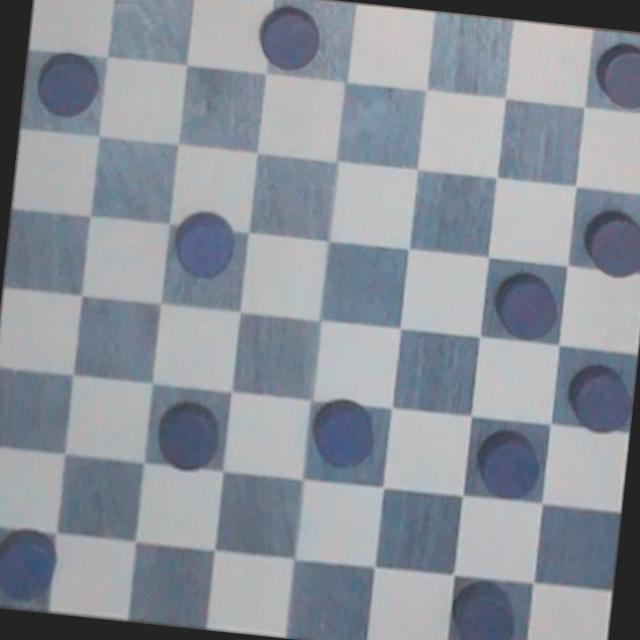BOARD: (0, 0, 640, 640)
black: (167, 199, 244, 298), (146, 392, 228, 477), (27, 44, 112, 126), (308, 386, 384, 476), (483, 260, 566, 340), (253, 0, 330, 82), (0, 516, 64, 613), (562, 358, 636, 440), (473, 422, 547, 502), (442, 564, 519, 640), (572, 195, 640, 281), (584, 30, 640, 119)
